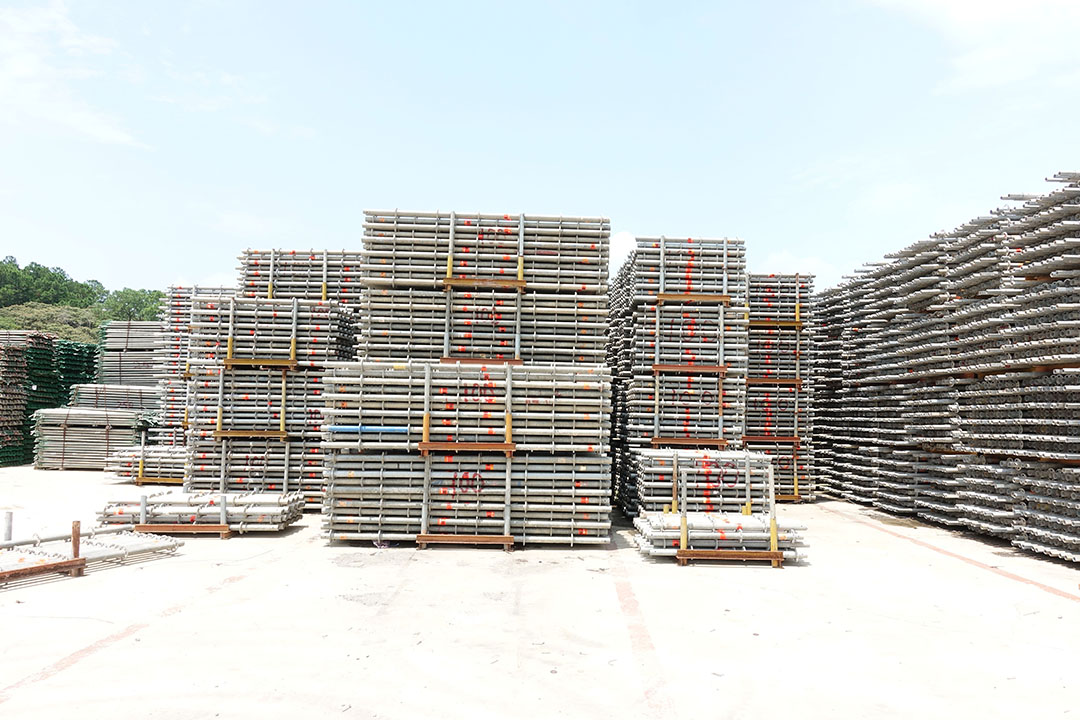building materials: (322, 451, 612, 552), (323, 360, 611, 457), (361, 208, 611, 294), (358, 290, 611, 367), (188, 293, 339, 368), (644, 451, 774, 536), (184, 368, 329, 441), (185, 441, 325, 511), (632, 304, 748, 378), (627, 376, 743, 449), (235, 246, 364, 310), (636, 235, 748, 306), (746, 271, 816, 332), (747, 386, 817, 446), (747, 330, 817, 387)
